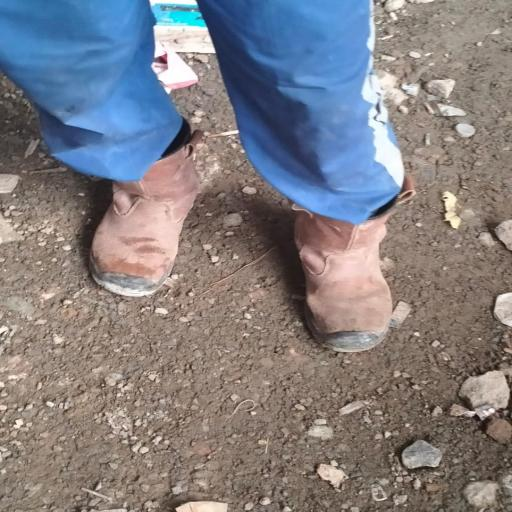safety_shoe: (85, 138, 217, 296), (280, 196, 411, 351)
